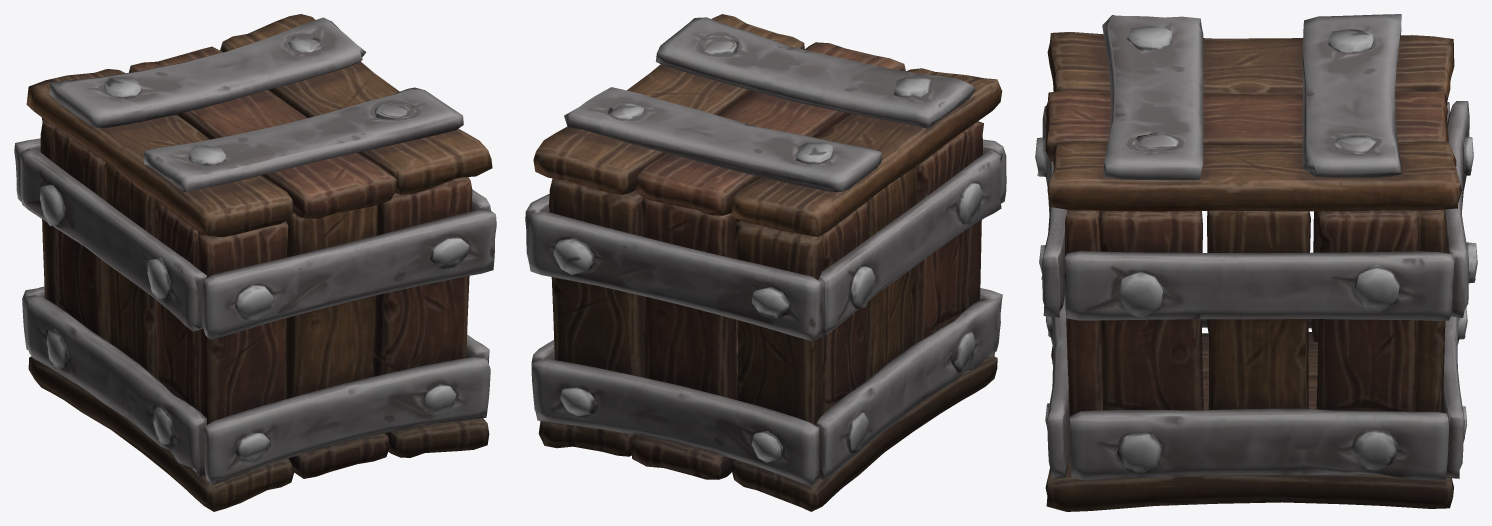
3 renders of one model, left to right at view 1: azimuth 30°, elevation 25°; view 2: azimuth 150°, elevation 25°; view 3: azimuth 270°, elevation 25°, orthographic. The views are drawn at different scales.
Parts seen in each view (by area): view 1: Wood_Low, Metal_low, Bolt_Low; view 2: Wood_Low, Metal_low, Bolt_Low; view 3: Wood_Low, Metal_low, Bolt_Low.
Boxes of the visible parts, x1,y1,x2,y2 form: Wood_Low: (26, 14, 492, 511); Metal_low: (14, 17, 496, 484); Bolt_Low: (40, 36, 469, 460); Wood_Low: (533, 14, 1002, 511); Metal_low: (525, 17, 1006, 486); Bolt_Low: (553, 40, 982, 462); Wood_Low: (1045, 32, 1461, 511); Metal_low: (1042, 14, 1469, 480); Bolt_Low: (1035, 26, 1477, 474).
Size of the model in its own units: 235 by 232 by 263.
